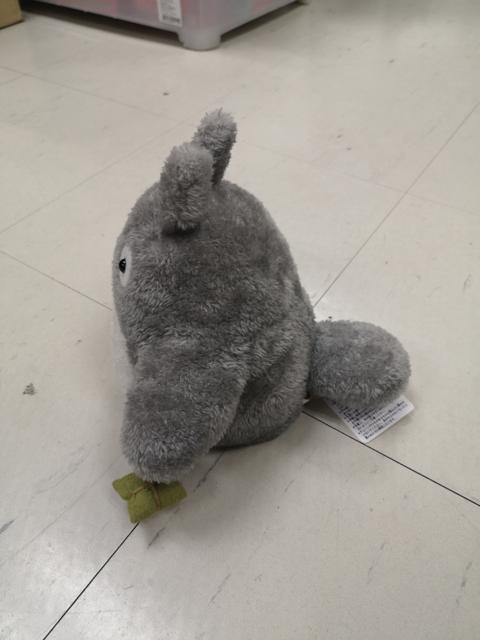totoro: (97, 105, 415, 529)
